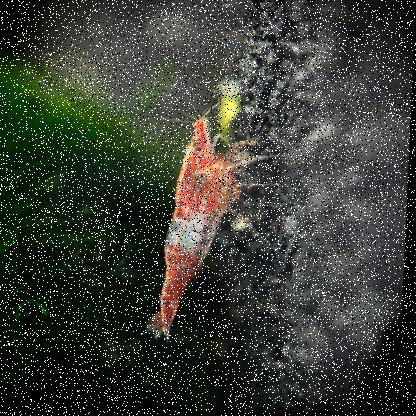shrimp: (143, 103, 286, 341)
